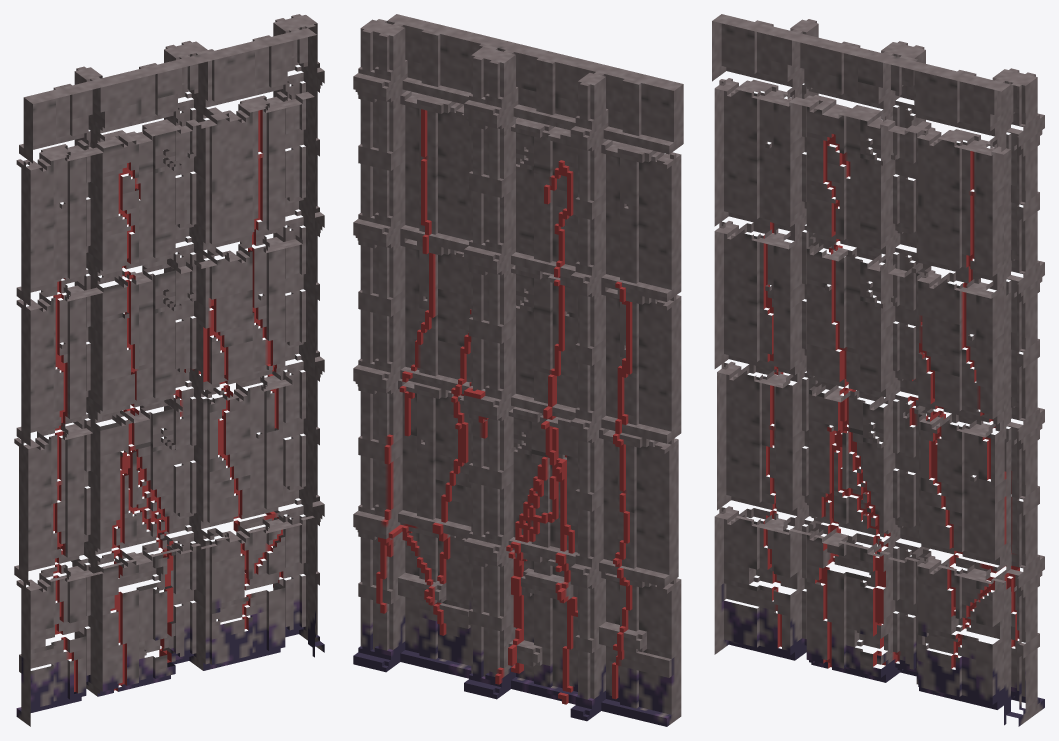
File: deathGate_door_right_state_4.fbx
3 views of the same model, side by side, from view 1: azimuth 30°, elevation 25°; view 2: azimuth 150°, elevation 25°; view 3: azimuth 330°, elevation 25° (orthographic).
Parts seen in each view (by area): view 1: deathGate_door_state_4; view 2: deathGate_door_state_4; view 3: deathGate_door_state_4.
Boxes of the visible parts, bbox=[...] form: deathGate_door_state_4: bbox=[14, 14, 324, 726]; deathGate_door_state_4: bbox=[353, 14, 683, 726]; deathGate_door_state_4: bbox=[712, 14, 1044, 726].
Bounding box in the file's own units: 73 × 147 × 13.
1 material, 1 textured.
